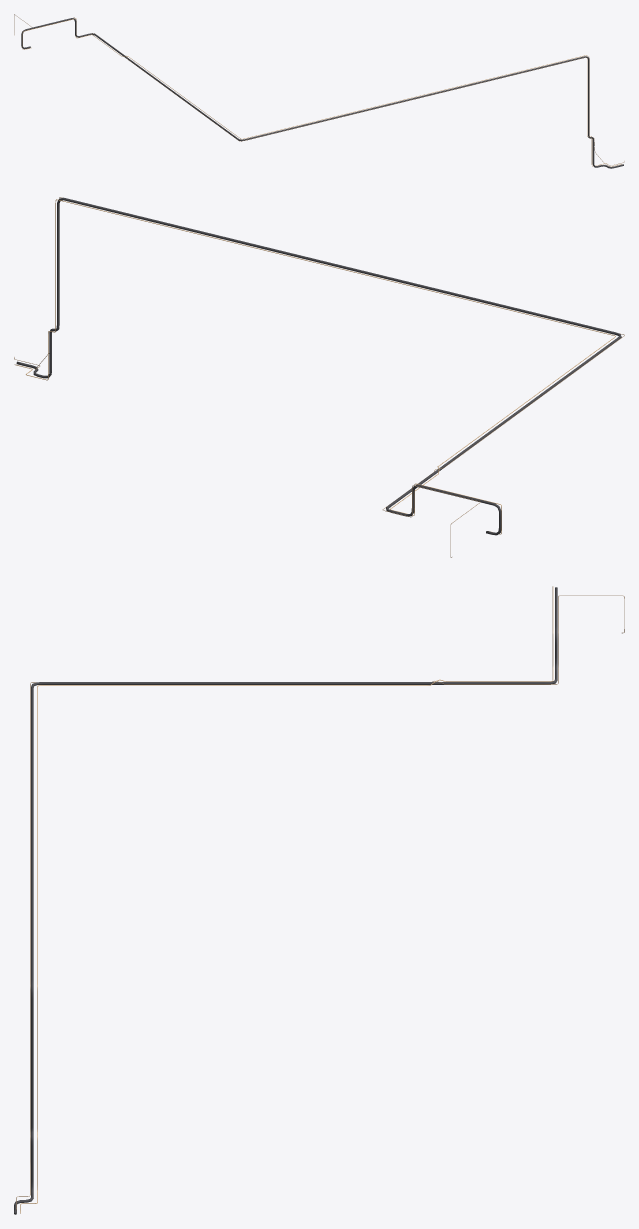
File: slab_pipes_hvac__hvac-electric_attic_ra15.glb
3 views of the same model, one above another, from view 1: azimuth 30°, elevation 25°; view 2: azimuth 150°, elevation 25°; view 3: azimuth 270°, elevation 25° (orthographic). The views are drawn at different scales.
Parts seen in each view (by area): view 1: pipe_hvac_lineset_suction_hp_ra15ay36, pipe_hvac_lineset_liquid_hp_ra15ay36, pipe_hvac_lineset_tstat_cable_hp_ra15ay36; view 2: pipe_hvac_lineset_suction_hp_ra15ay36, pipe_hvac_lineset_liquid_hp_ra15ay36, pipe_hvac_lineset_tstat_cable_hp_ra15ay36; view 3: pipe_hvac_lineset_suction_hp_ra15ay36, pipe_hvac_lineset_liquid_hp_ra15ay36, pipe_hvac_lineset_tstat_cable_hp_ra15ay36.
Part boxes in pixels (bbox=[...]): pipe_hvac_lineset_suction_hp_ra15ay36: bbox=[21, 18, 623, 168]; pipe_hvac_lineset_liquid_hp_ra15ay36: bbox=[22, 18, 621, 166]; pipe_hvac_lineset_tstat_cable_hp_ra15ay36: bbox=[14, 14, 624, 166]; pipe_hvac_lineset_suction_hp_ra15ay36: bbox=[16, 197, 621, 535]; pipe_hvac_lineset_liquid_hp_ra15ay36: bbox=[14, 199, 615, 534]; pipe_hvac_lineset_tstat_cable_hp_ra15ay36: bbox=[14, 197, 624, 557]; pipe_hvac_lineset_suction_hp_ra15ay36: bbox=[14, 587, 557, 1214]; pipe_hvac_lineset_liquid_hp_ra15ay36: bbox=[20, 586, 553, 1213]; pipe_hvac_lineset_tstat_cable_hp_ra15ay36: bbox=[16, 595, 624, 1210].
Size of the model in its own units: 13.3 by 3.77 by 8.73.
